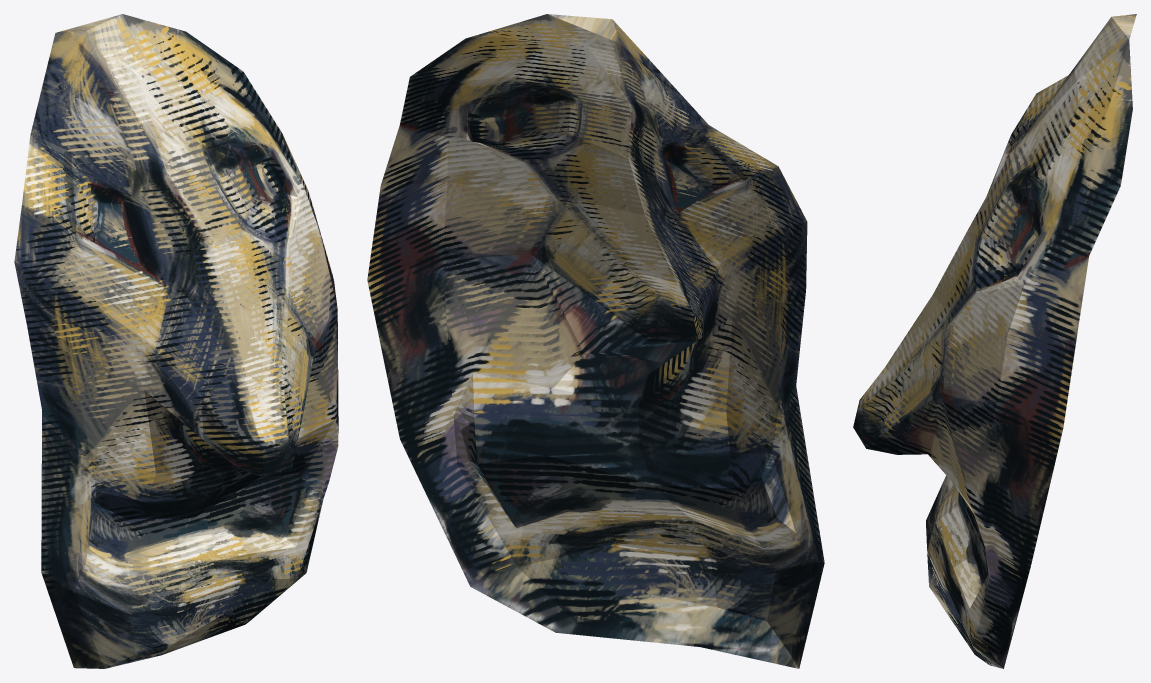
The model's file is maskata3.fbx.
3 views of the same model, side by side, from view 1: azimuth 30°, elevation 25°; view 2: azimuth 150°, elevation 25°; view 3: azimuth 270°, elevation 25° (orthographic). The views are drawn at different scales.
Parts seen in each view (by area): view 1: pSphere3; view 2: pSphere3; view 3: pSphere3.
Boxes of the visible parts, <box> form: pSphere3: <box>14,14,338,668</box>; pSphere3: <box>367,14,824,668</box>; pSphere3: <box>853,14,1136,668</box>.
Size of the model in its own units: 17.09 by 27.47 by 11.87.
Materials: 1 (1 with a texture image).
